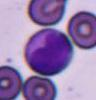M: (24, 28, 72, 76)
